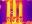Hotspot: (12, 0, 18, 17), (5, 17, 17, 23), (7, 1, 10, 17), (20, 2, 22, 17), (12, 22, 22, 23)
